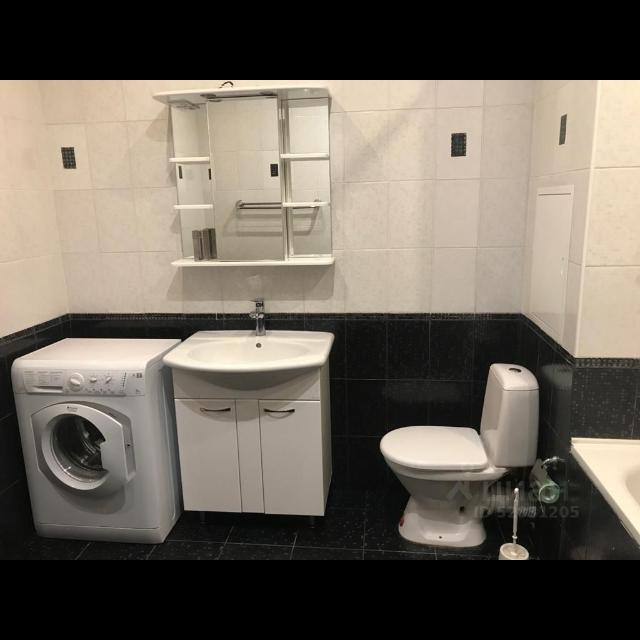Washing-Machine: (12, 335, 180, 541)
